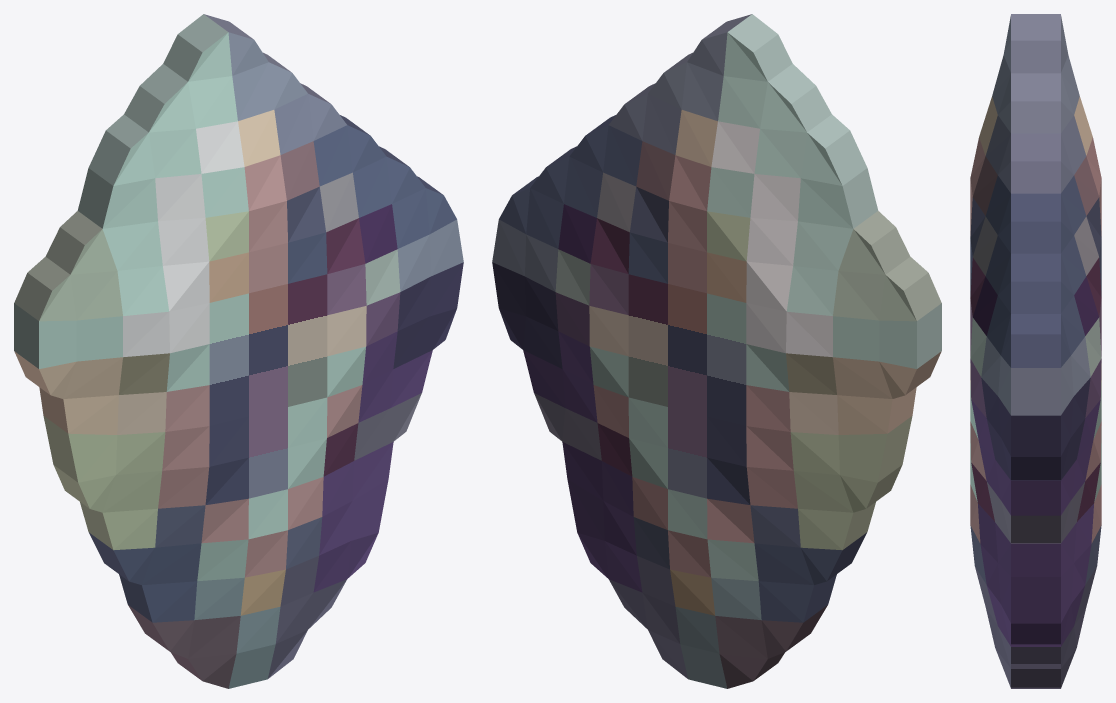
File: crystal_formation.glb
3 renders of one model, left to right at view 1: azimuth 30°, elevation 25°; view 2: azimuth 150°, elevation 25°; view 3: azimuth 270°, elevation 25°, orthographic.
Visible parts, largest first — view 1: crystal_formation; view 2: crystal_formation; view 3: crystal_formation.
Part boxes in pixels (left/top/right/bottom): crystal_formation: left=14, top=14, right=463, bottom=688; crystal_formation: left=492, top=14, right=941, bottom=688; crystal_formation: left=970, top=14, right=1101, bottom=688.
Bounding box in the file's own units: 0.6768 × 1 × 0.1813.
Materials: 1 (1 with a texture image).
